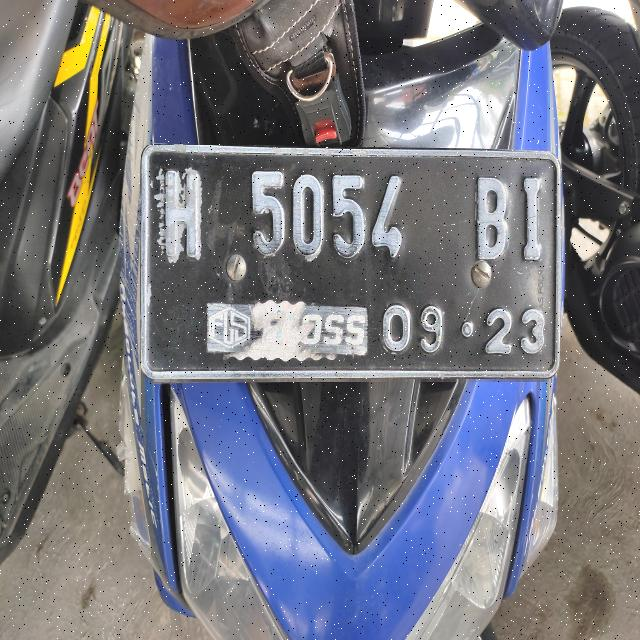plate: (141, 145, 560, 379)
